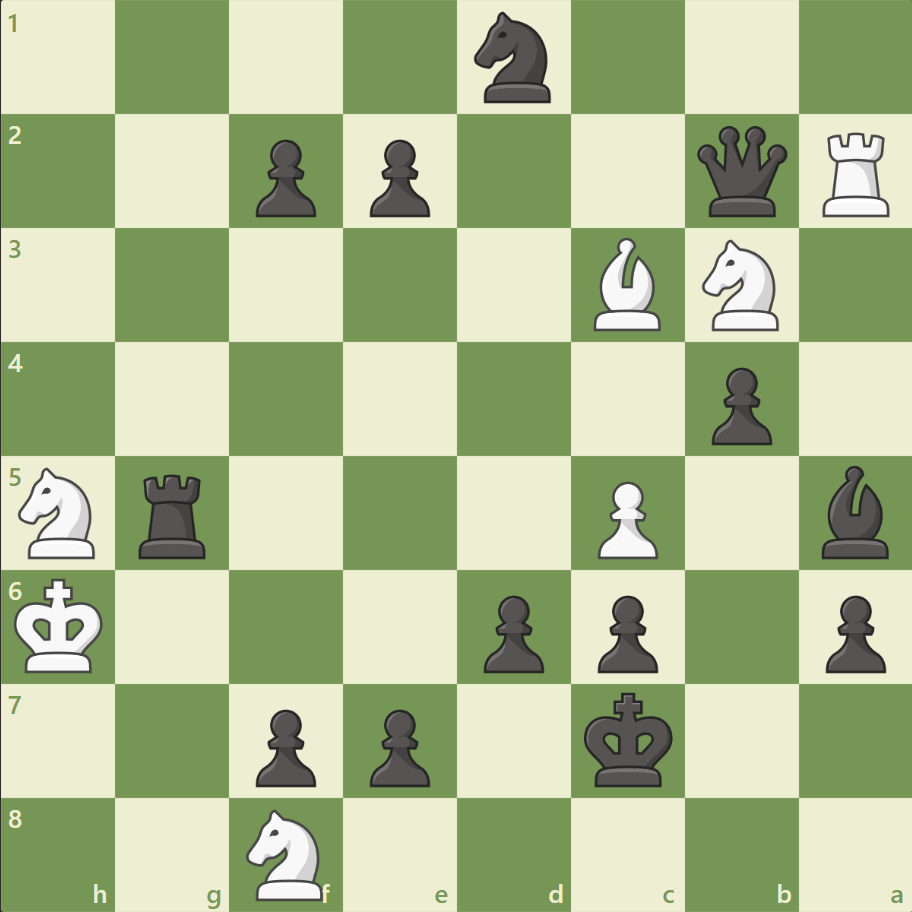B: (585, 233, 669, 336)
K: (11, 571, 111, 679)
N: (11, 461, 108, 564), (692, 234, 789, 337), (238, 802, 335, 904)
P: (588, 473, 662, 564)
R: (814, 125, 897, 222)
b: (812, 460, 896, 563)
k: (579, 685, 679, 793)
n: (465, 7, 562, 110)
p: (247, 700, 322, 791), (474, 586, 549, 677), (701, 359, 776, 450), (247, 132, 322, 223), (361, 700, 435, 791), (815, 586, 889, 677), (588, 586, 662, 677), (361, 132, 435, 223)
q: (691, 122, 790, 222)
r: (133, 466, 215, 563)
